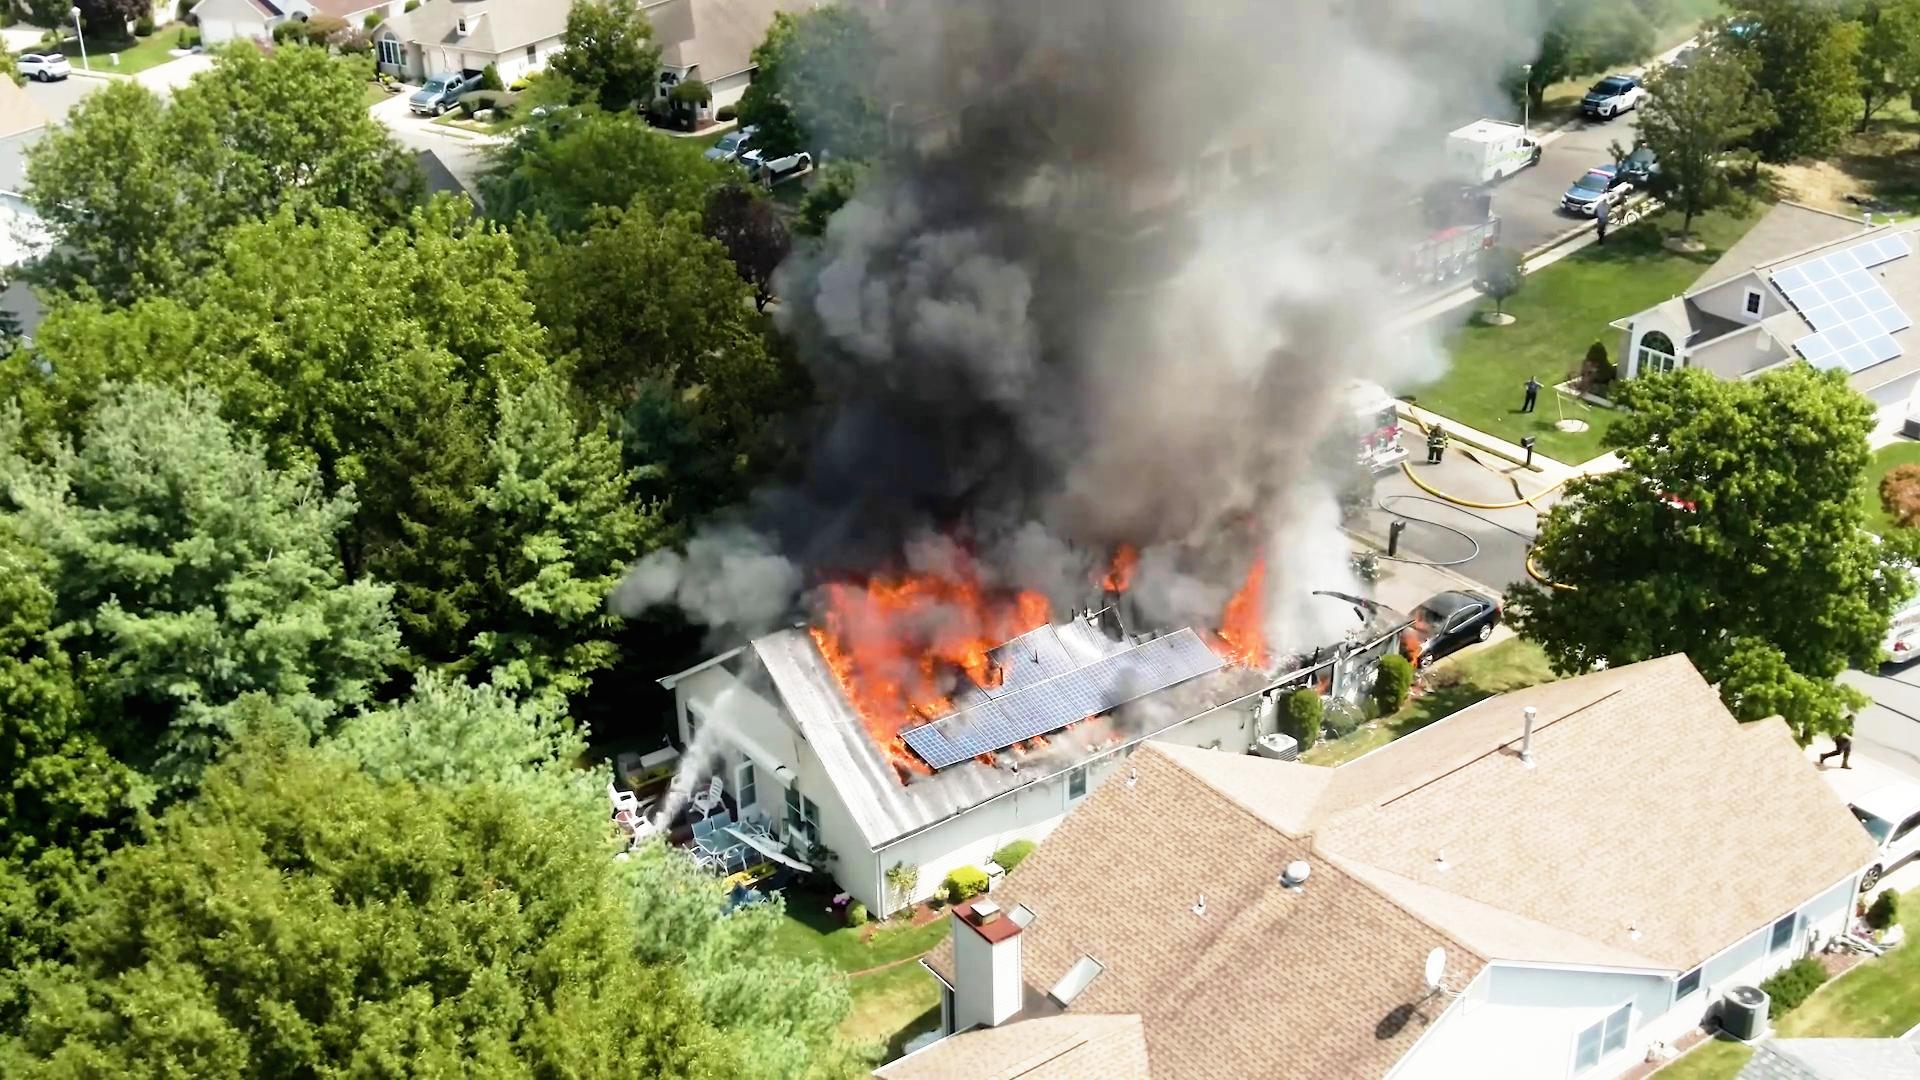fire: (787, 526, 1092, 744), (1189, 587, 1262, 666)
smoke: (774, 61, 1273, 517), (1170, 57, 1335, 518)
